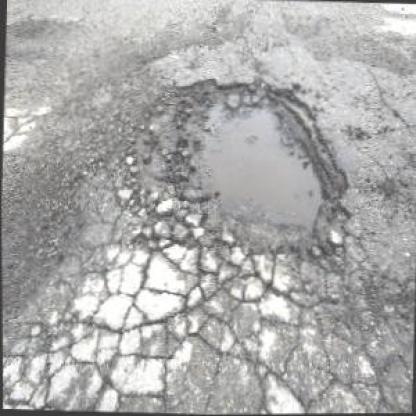pothole: (119, 68, 356, 272)
